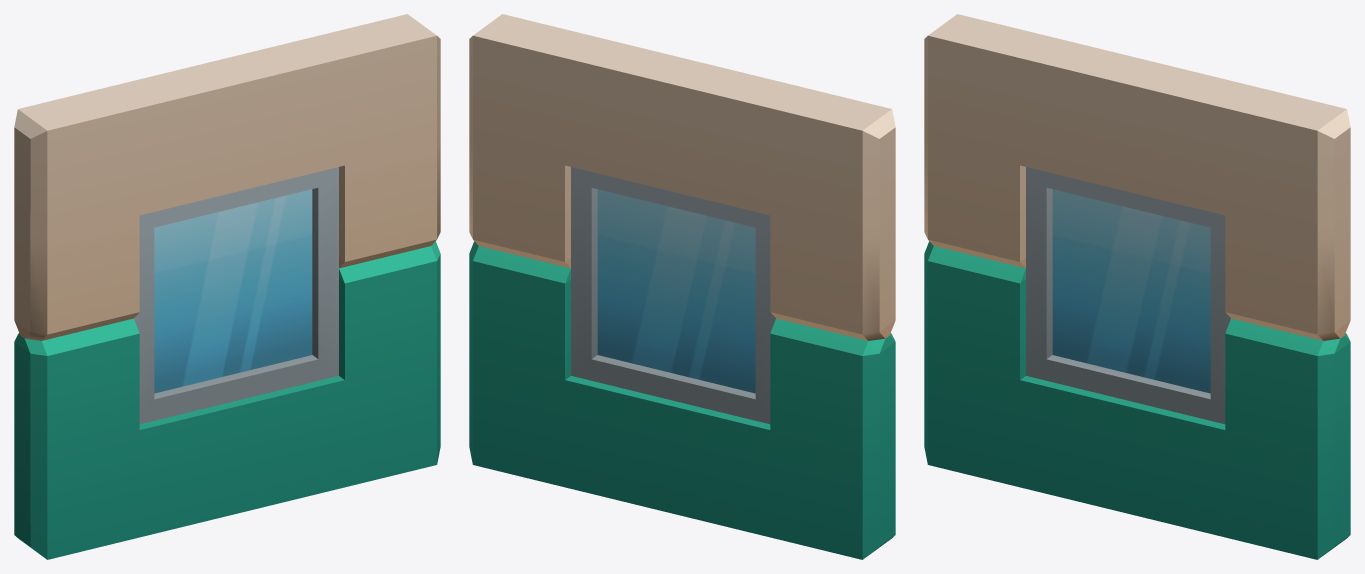
Rendered from wall-window.glb.
3 renders of one model, left to right at view 1: azimuth 30°, elevation 25°; view 2: azimuth 150°, elevation 25°; view 3: azimuth 330°, elevation 25°, orthographic.
Parts seen in each view (by area): view 1: wall_window_closed; view 2: wall_window_closed; view 3: wall_window_closed.
Part boxes in pixels (left/top/right/bottom): wall_window_closed: left=14, top=14, right=440, bottom=559; wall_window_closed: left=469, top=14, right=895, bottom=559; wall_window_closed: left=924, top=14, right=1350, bottom=559.
Bounding box in the file's own units: 4 × 4 × 0.5.
Materials: 1 (1 with a texture image).
